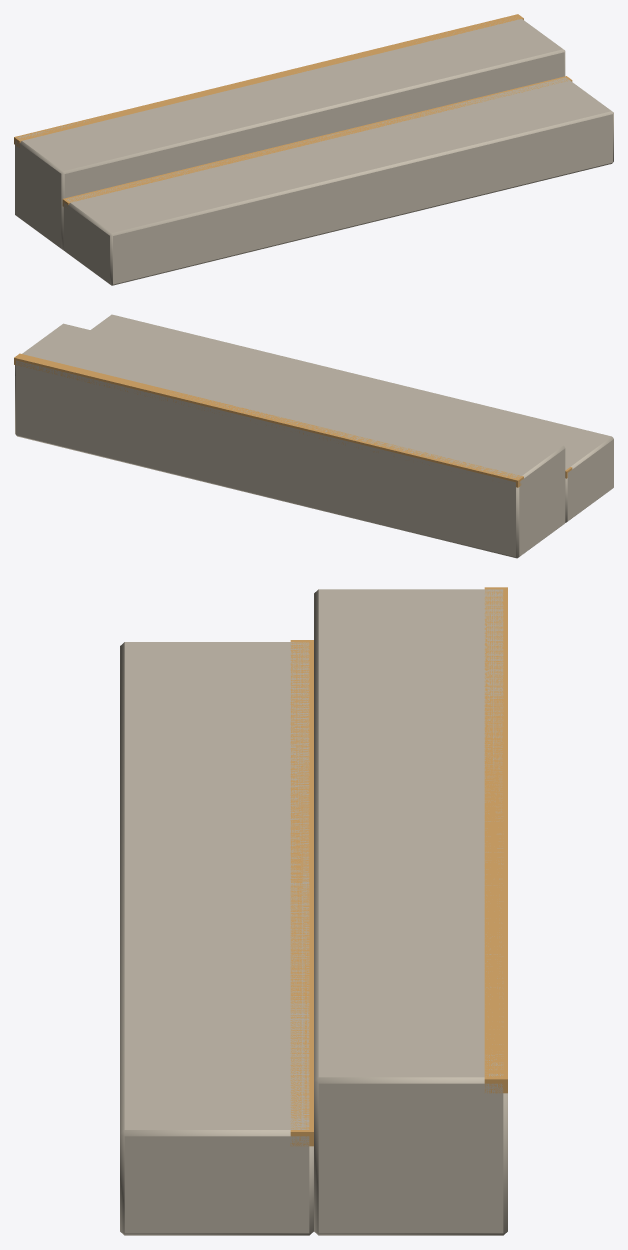
The model's file is steps.glb.
The picture shows the model from 3 angles, top to bottom: view 1: azimuth 30°, elevation 25°; view 2: azimuth 150°, elevation 25°; view 3: azimuth 270°, elevation 25°; orthographic projection. The views are drawn at different scales.
Parts seen in each view (by area): view 1: body; view 2: body; view 3: body.
Boxes of the visible parts, left/top/right/bottom form: body: left=14, top=14, right=613, bottom=285; body: left=14, top=314, right=613, bottom=558; body: left=120, top=587, right=507, bottom=1235.
Size of the model in its own units: 3 by 0.45 by 1.
